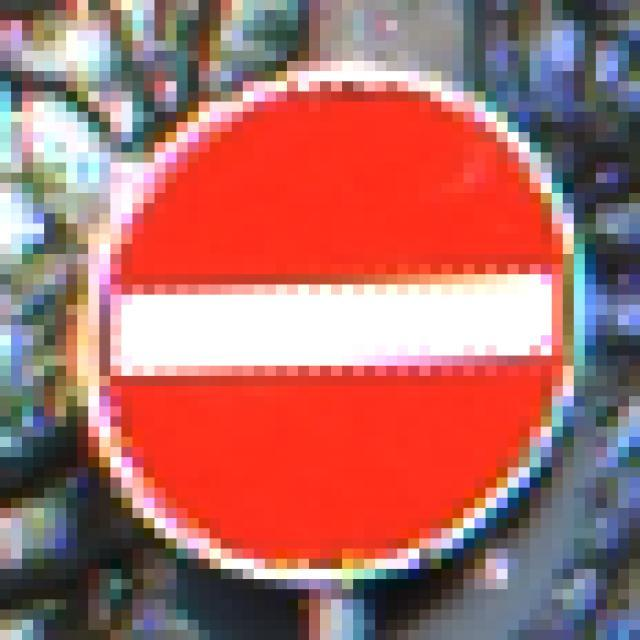no entry: (82, 68, 581, 585)
